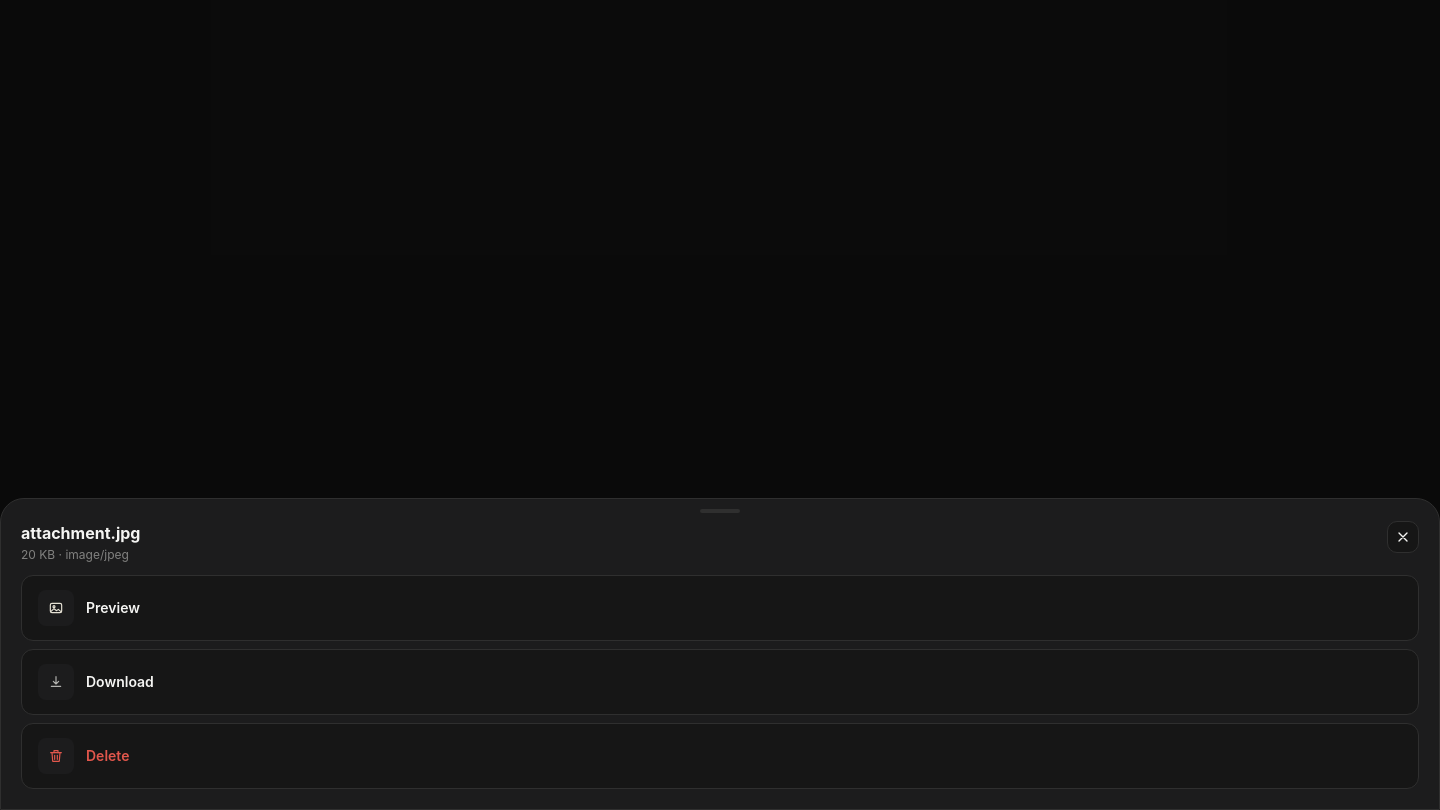
AttachmentActions › disables the confirm button while deleting
Click the button "Delete" at (56, 756), box [21,723,1419,789]
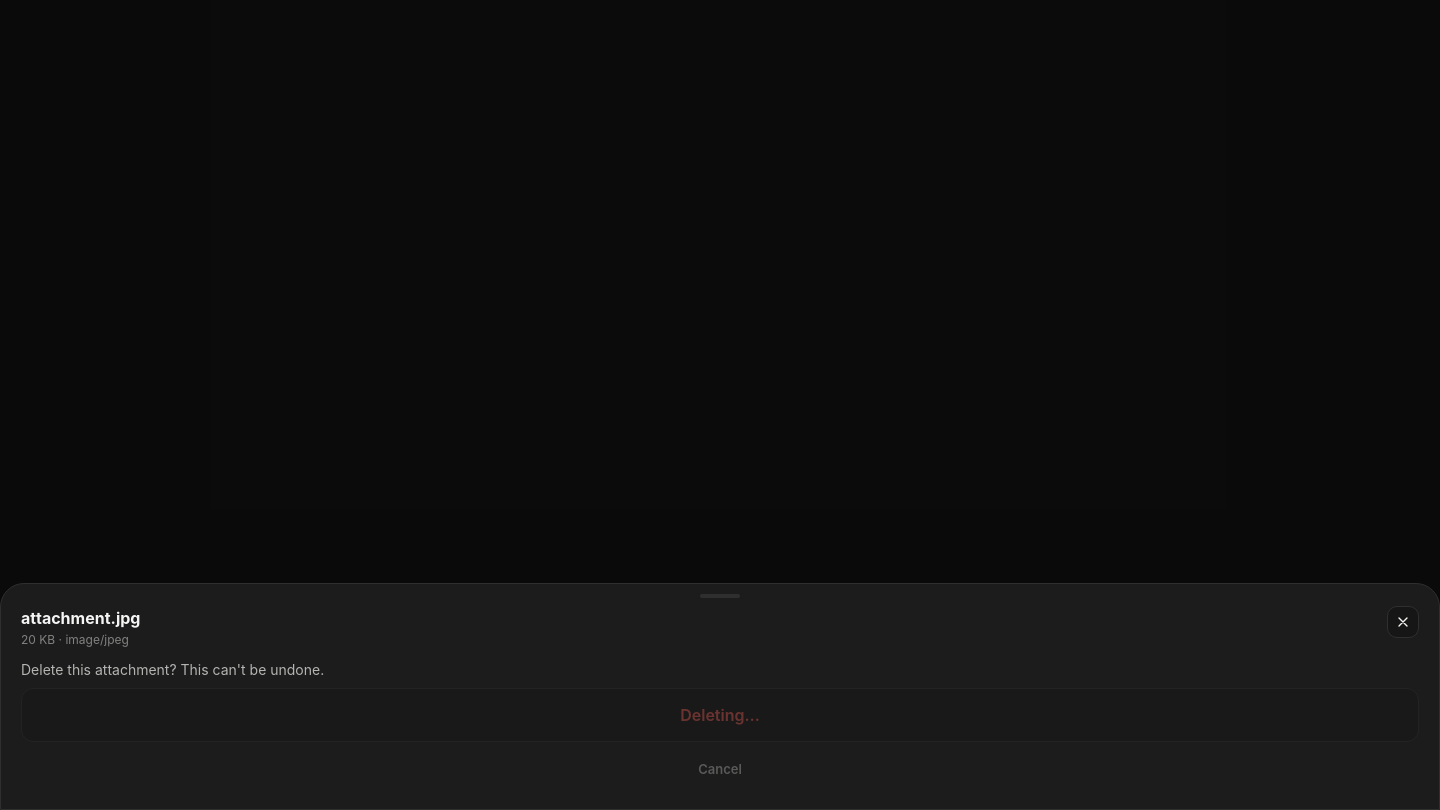
expect the button "Deleting…" is disabled: met, box [21,688,1419,742]
